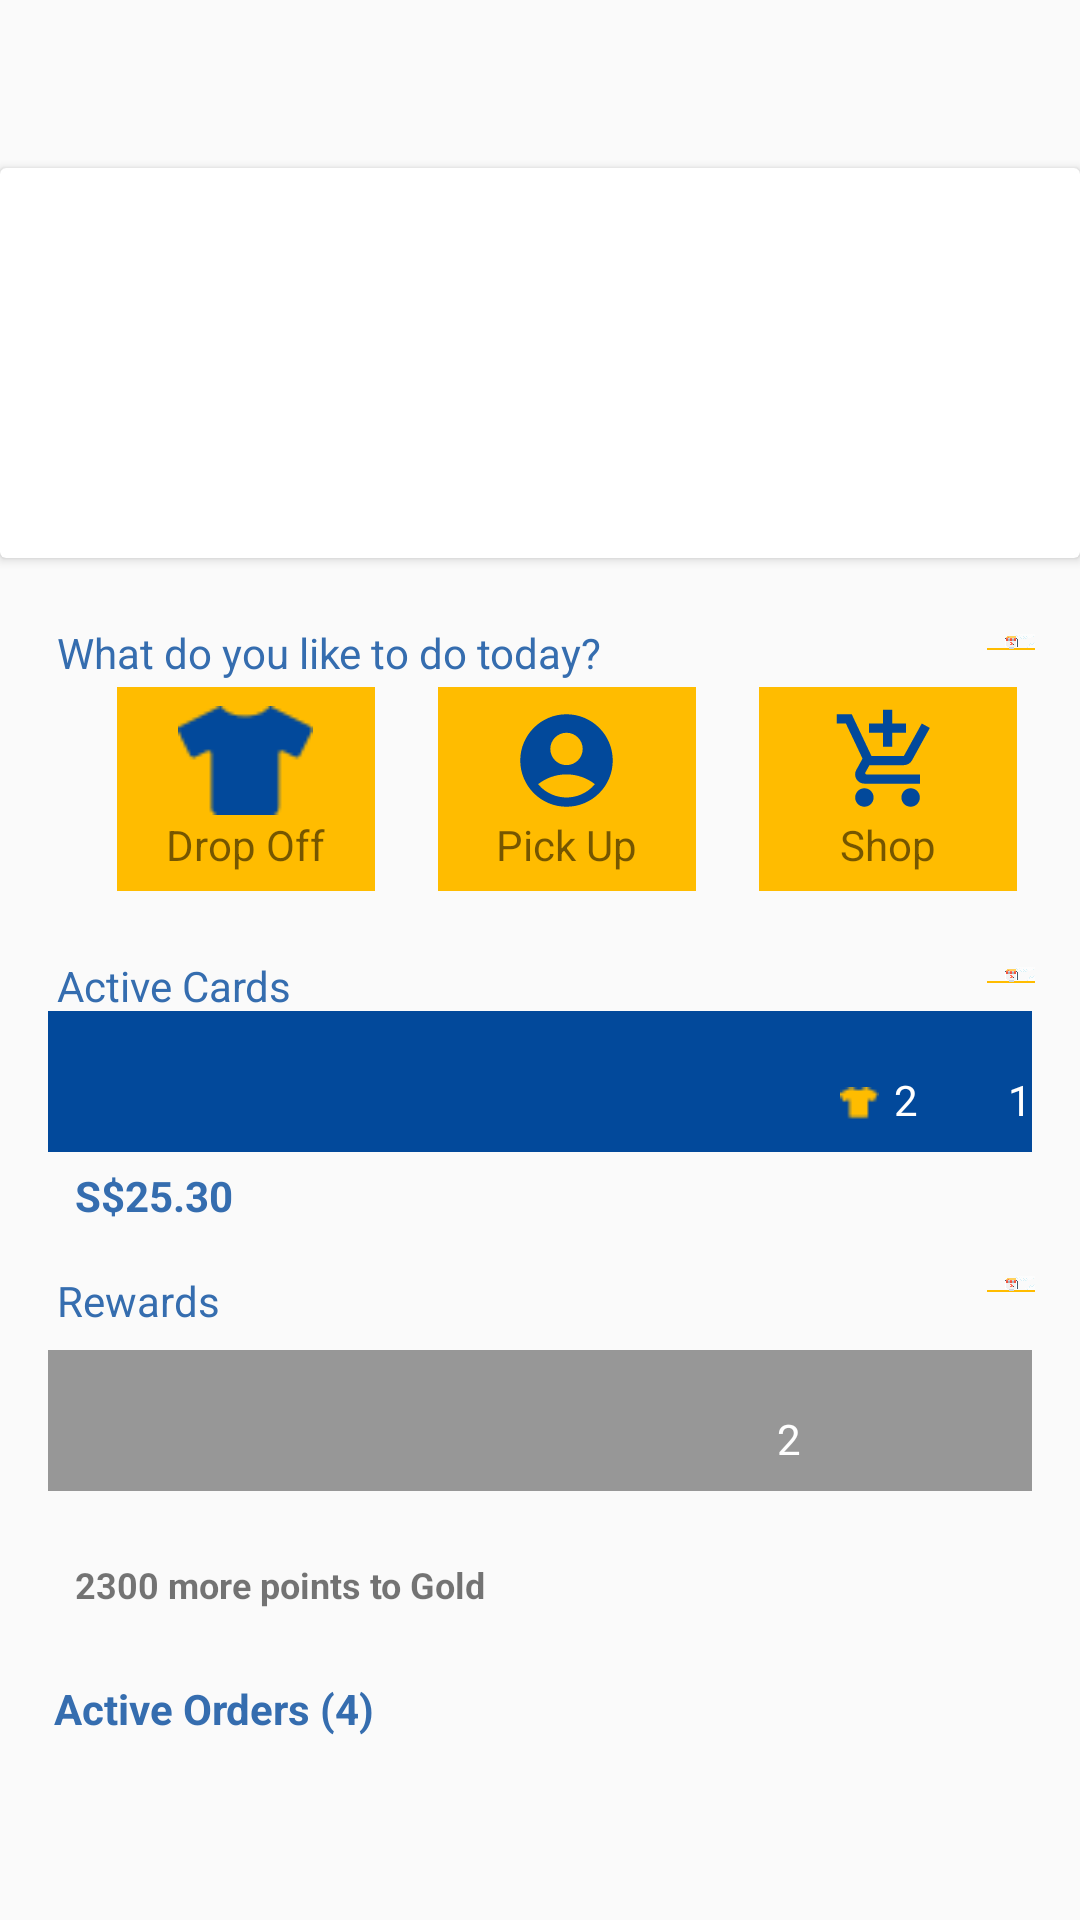

Named icons in this screenshot (1080 × 1920) and their bounding boxes, (x1, y1, x2, y2):
tshirt: (178, 706, 313, 815), (840, 1087, 879, 1119)
user: (520, 714, 613, 807)
